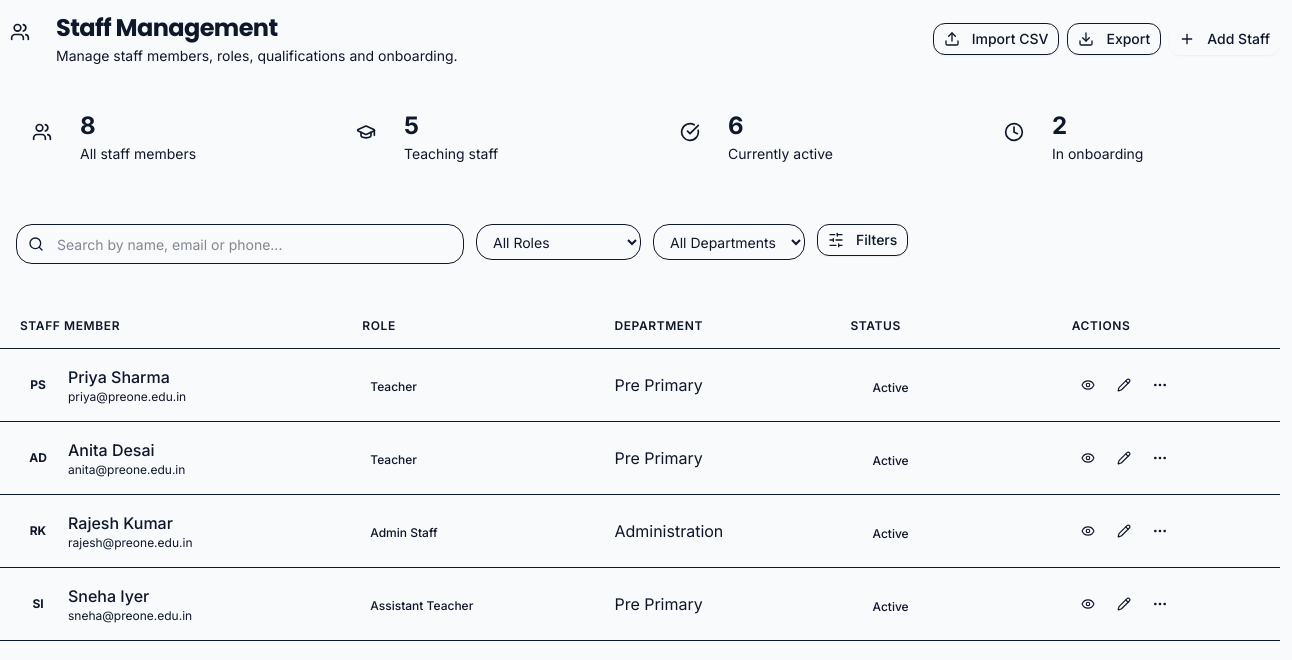
StaffManagementPage › opens detail panel when View button is clicked
Click the button titled "View" in the row of "PS": {"x": 1088, "y": 385} [1072, 369, 1104, 401]
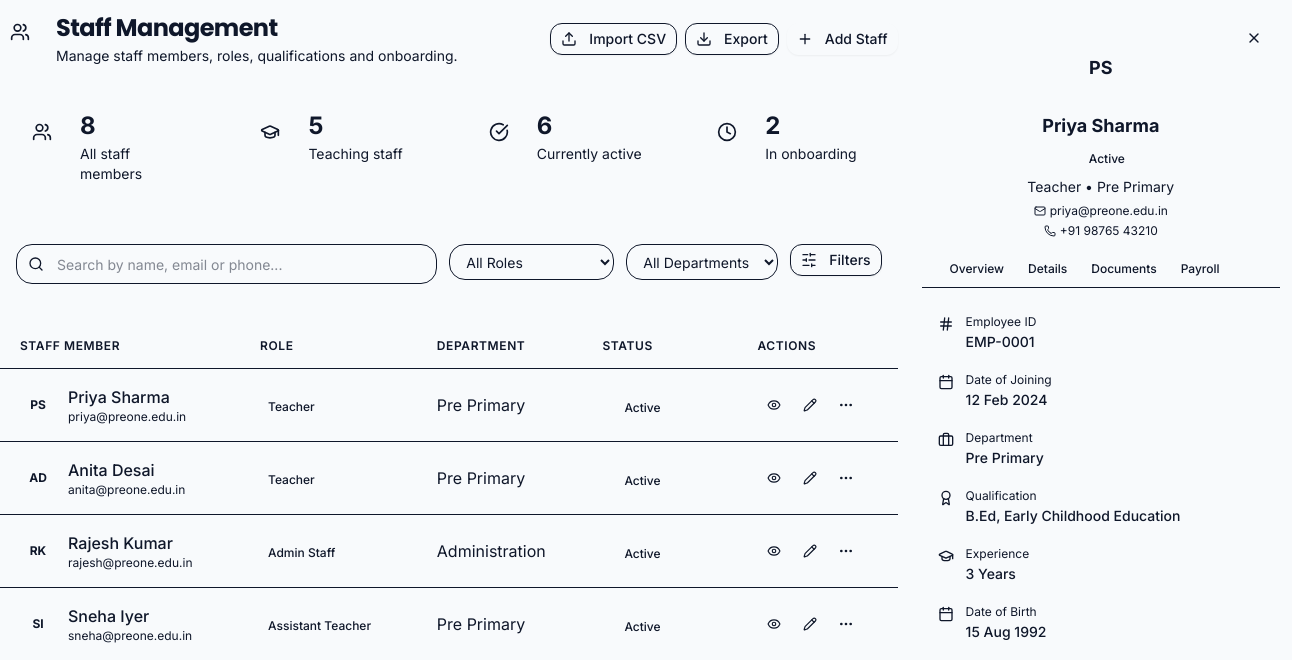
Check: the text "Employee ID" is shown, box [966, 314, 1036, 329]
